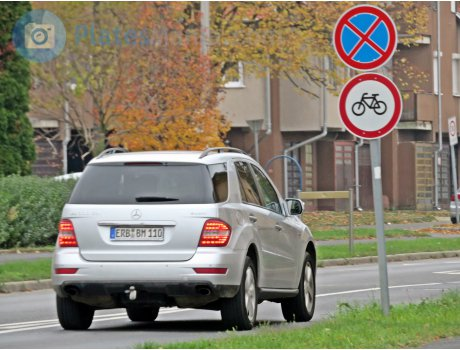License Plates: (115, 228, 159, 238)
